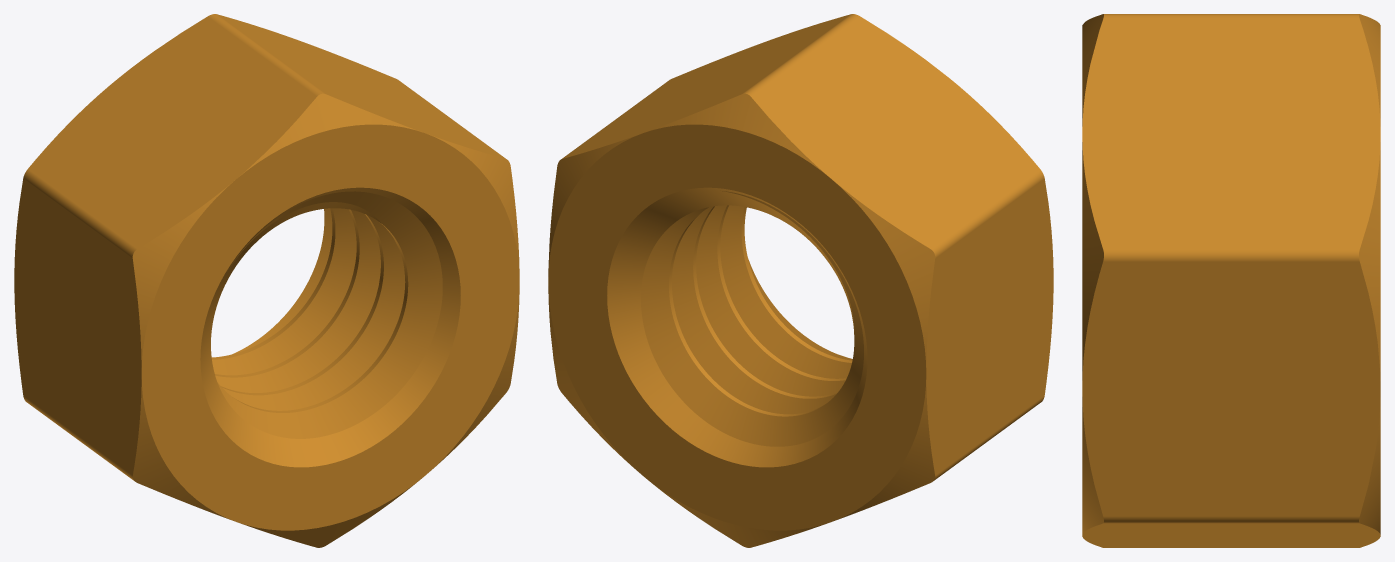
Rendered from sorting_nut1.obj.
3 renders of one model, left to right at view 1: azimuth 30°, elevation 25°; view 2: azimuth 150°, elevation 25°; view 3: azimuth 270°, elevation 25°, orthographic. The views are drawn at different scales.
Bounding box in the file's own units: 0.0143 × 0.0164 × 0.00833.
